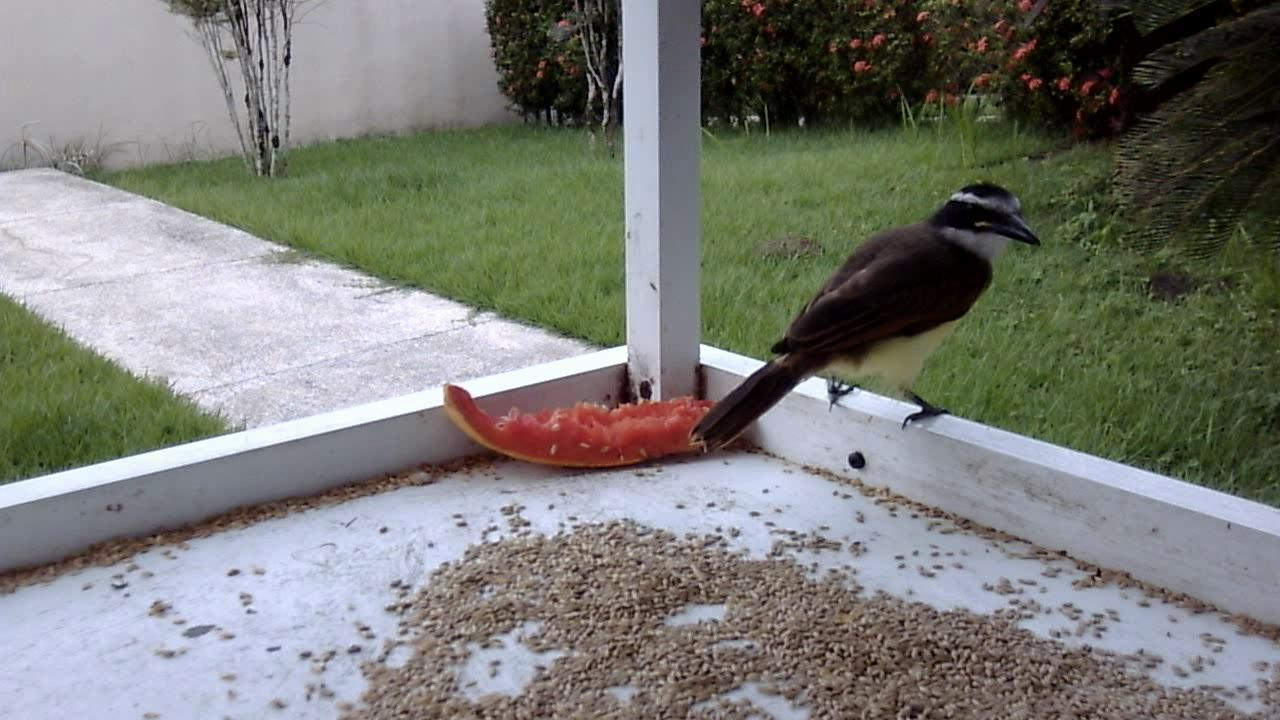bem_te_vi: (685, 177, 1044, 458)
